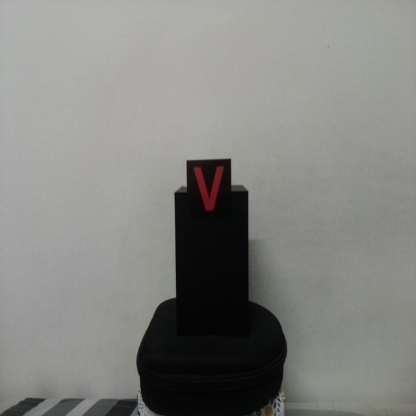id_11: (187, 160, 231, 221)
